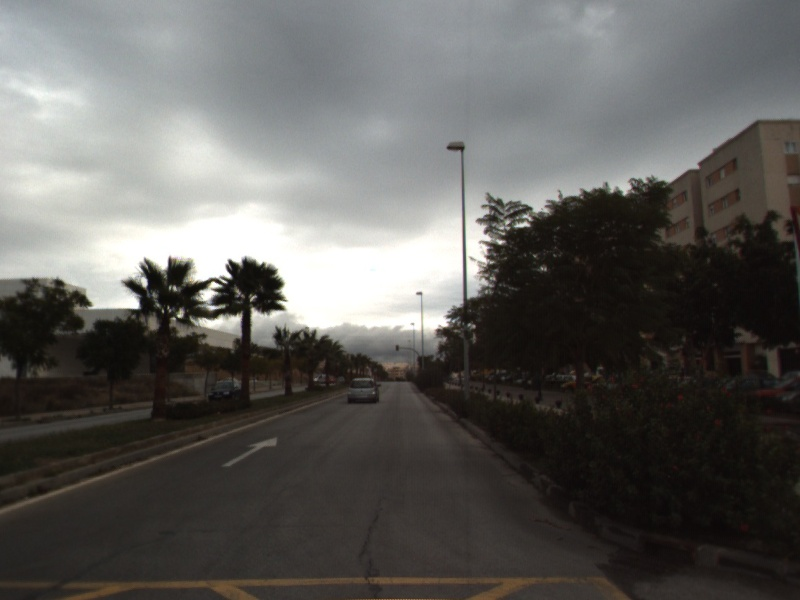STRAIGHT: (220, 435, 279, 468)
